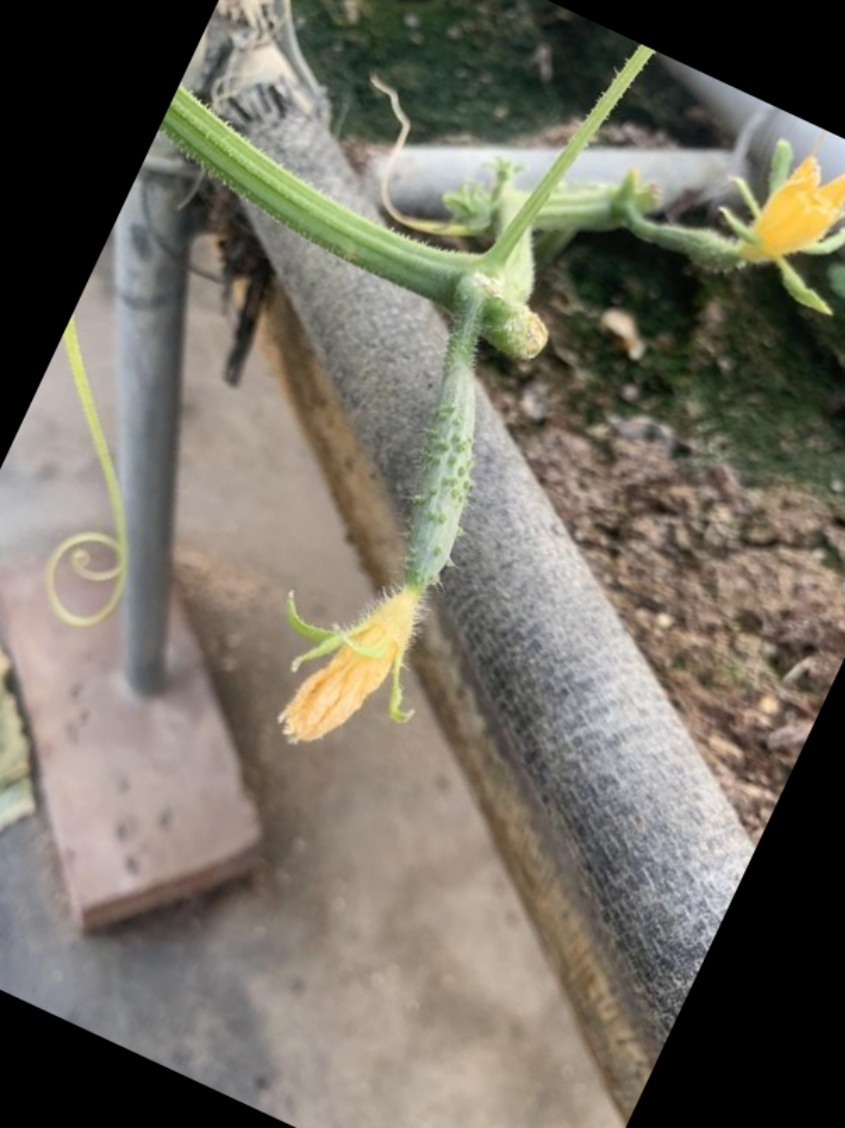bear: (611, 129, 843, 322)
